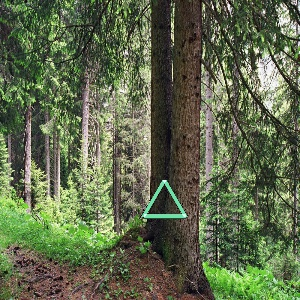triangle: (138, 176, 190, 222)
